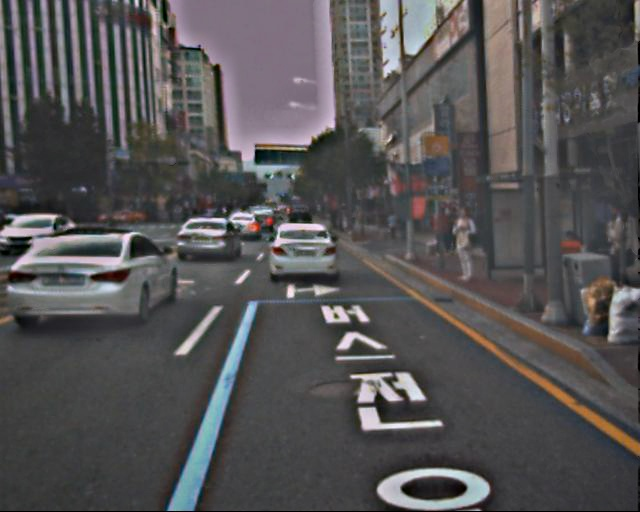person: (596, 206, 639, 311), (448, 205, 481, 285), (434, 205, 457, 260), (388, 208, 411, 241)
